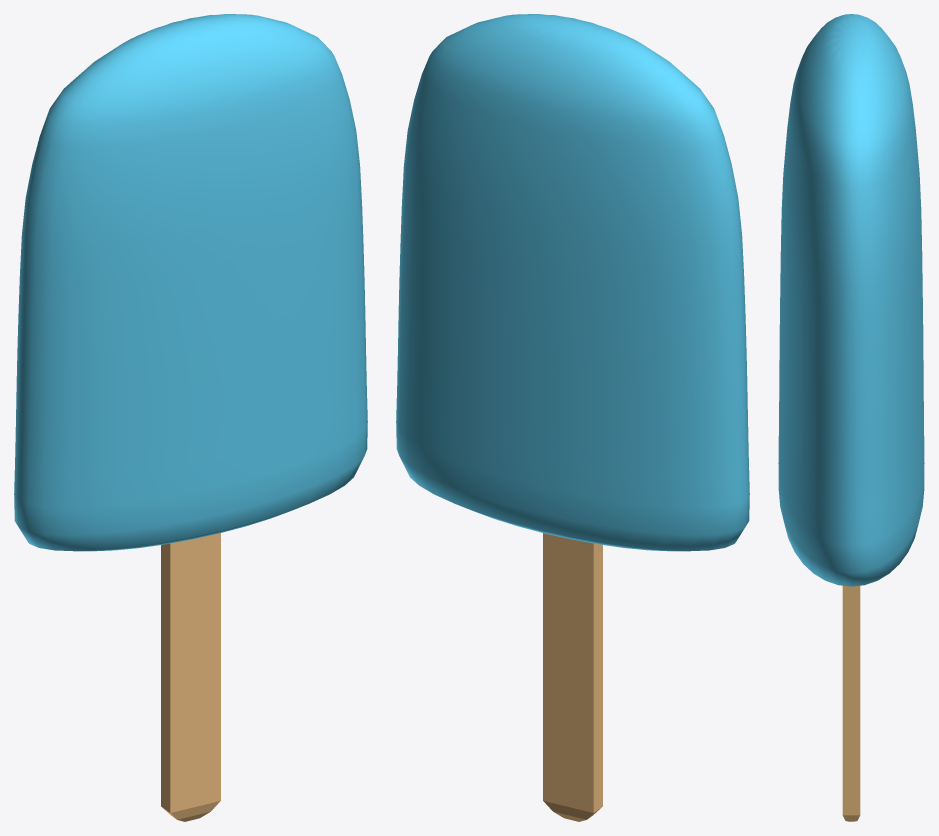
File: Popsicle.fbx
3 views of the same model, side by side, from view 1: azimuth 30°, elevation 25°; view 2: azimuth 150°, elevation 25°; view 3: azimuth 270°, elevation 25° (orthographic).
Visible parts, largest first — view 1: Sphere, Cube; view 2: Sphere, Cube; view 3: Sphere, Cube.
Part boxes in pixels (x1=…): Sphere: x1=14, y1=14, x2=367, y2=551; Cube: x1=161, y1=533, x2=220, y2=821; Sphere: x1=396, y1=14, x2=749, y2=551; Cube: x1=543, y1=533, x2=602, y2=821; Sphere: x1=778, y1=14, x2=924, y2=586; Cube: x1=842, y1=585, x2=860, y2=821.
Size of the model in its own units: 192 by 424 by 71.64.
1 material, 1 textured.
